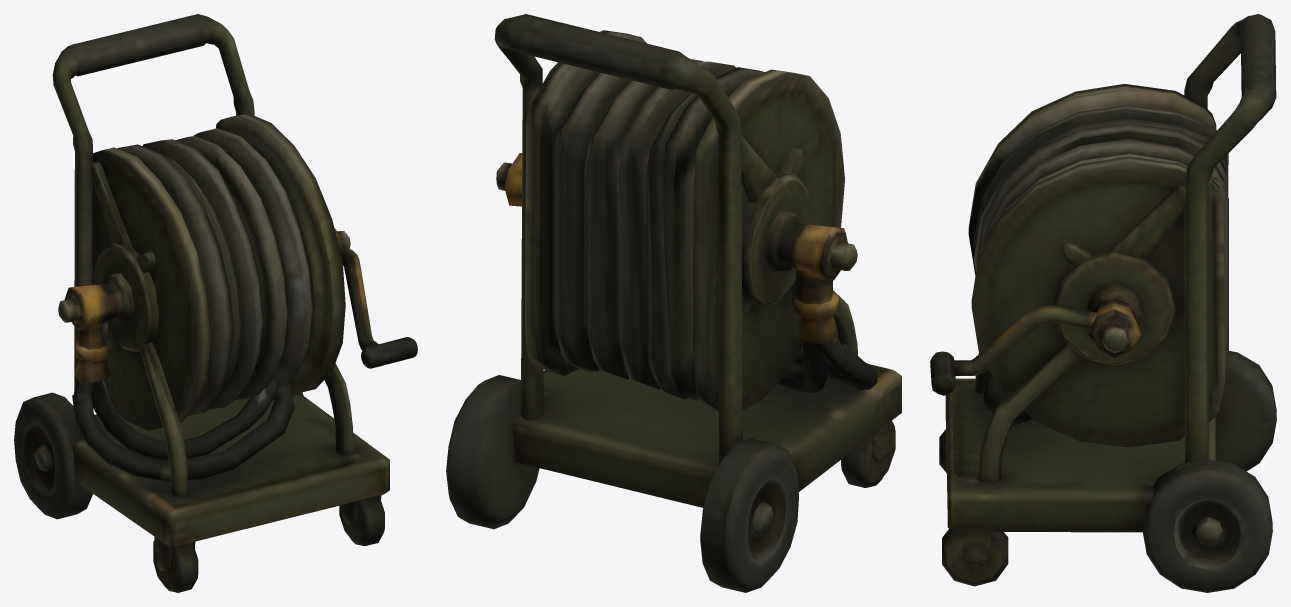
File: safety_hose_reel.fbx
3 views of the same model, side by side, from view 1: azimuth 30°, elevation 25°; view 2: azimuth 150°, elevation 25°; view 3: azimuth 270°, elevation 25° (orthographic). The views are drawn at different scales.
Parts seen in each view (by area): view 1: safety_hose_reel; view 2: safety_hose_reel; view 3: safety_hose_reel.
Boxes of the visible parts, bbox=[...] form: safety_hose_reel: bbox=[14, 14, 417, 592]; safety_hose_reel: bbox=[446, 14, 901, 592]; safety_hose_reel: bbox=[930, 14, 1276, 592].
Bounding box in the file's own units: 75.31 × 111 × 71.88.
